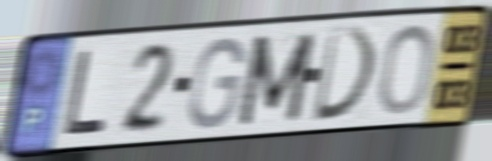2: (117, 39, 178, 138)
D: (310, 24, 380, 126)
G: (186, 34, 248, 132)
L: (61, 47, 111, 139)
M: (234, 30, 319, 129)
O: (376, 21, 438, 118)
